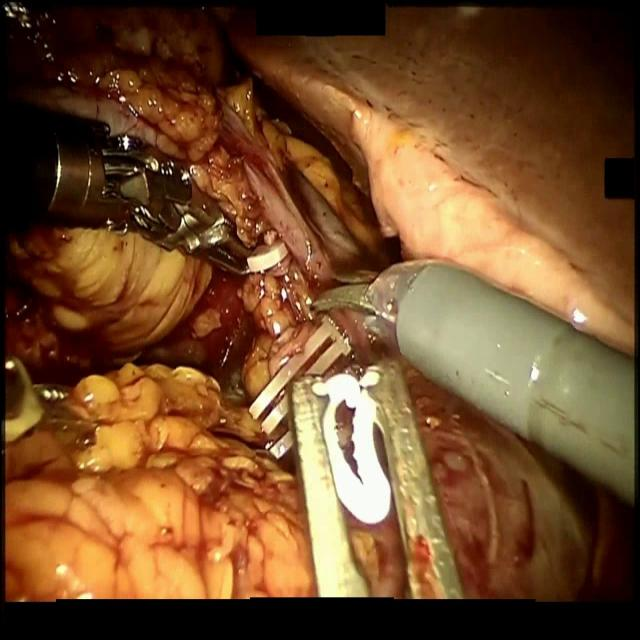surgical-area: (0, 0, 637, 602)
surgical-tool: (310, 256, 636, 508), (0, 102, 256, 277), (288, 363, 464, 596), (4, 353, 99, 452)
